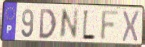9: (20, 8, 34, 39)
D: (39, 8, 58, 41)
F: (99, 10, 122, 43)
L: (82, 9, 97, 43)
N: (58, 8, 80, 42)
X: (121, 10, 141, 44)
